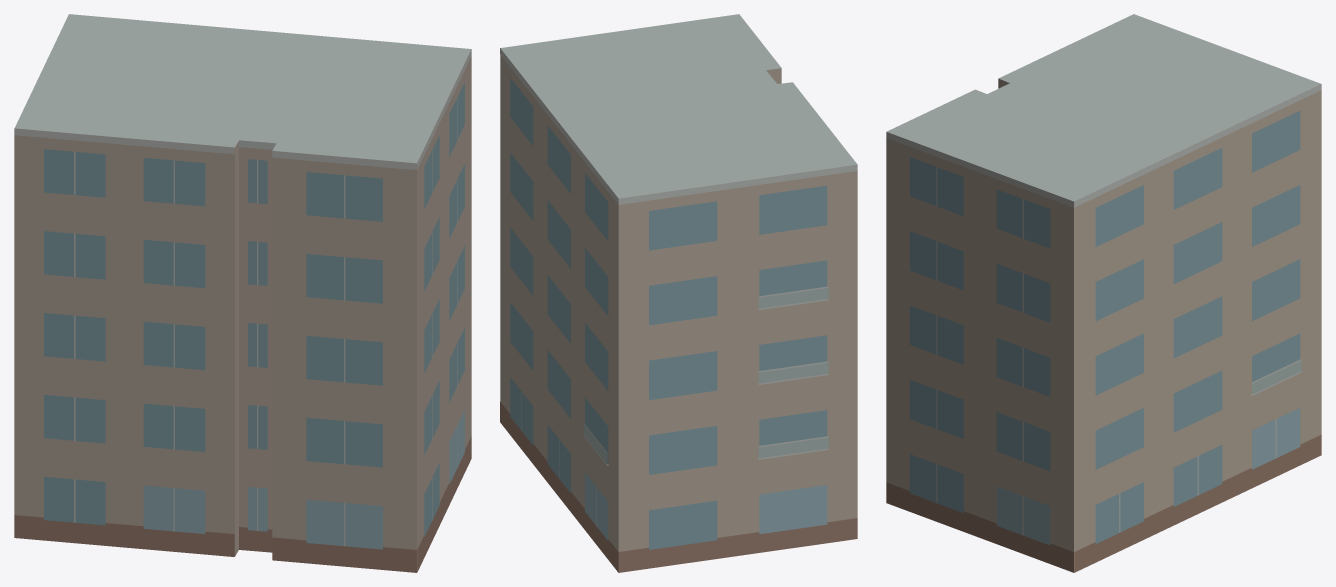
The model's file is survey-upis-32969006.glb.
The picture shows the model from 3 angles, left to right: view 1: azimuth 30°, elevation 25°; view 2: azimuth 150°, elevation 25°; view 3: azimuth 270°, elevation 25°; orthographic projection. The views are drawn at different scales.
Parts seen in each view (by area): view 1: survey-upis-32969006.tmp; view 2: survey-upis-32969006.tmp; view 3: survey-upis-32969006.tmp.
Boxes of the visible parts, x1,y1,x2,y2 form: survey-upis-32969006.tmp: (14, 14, 471, 572); survey-upis-32969006.tmp: (500, 14, 857, 572); survey-upis-32969006.tmp: (886, 14, 1321, 572).
Size of the model in its own units: 15.83 by 14.6 by 15.52.
